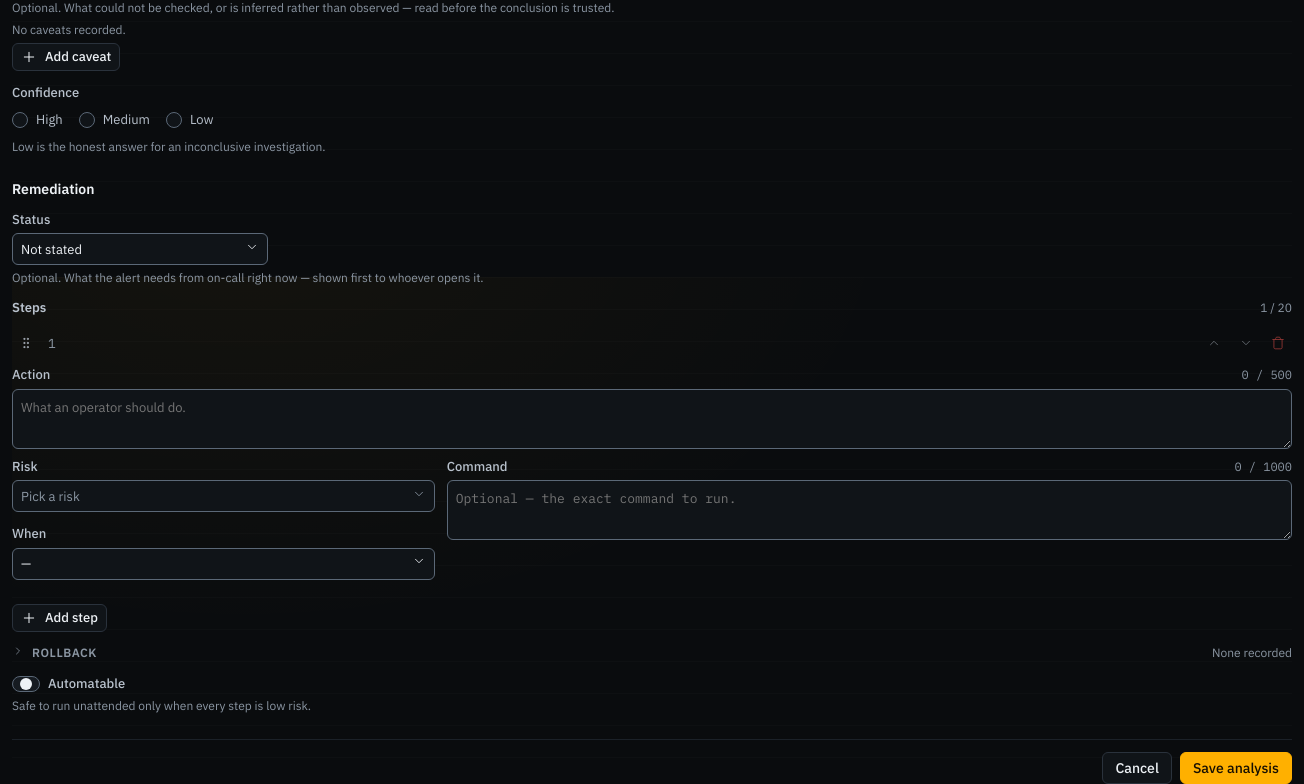
Test: AnalysisEditor › refuses an incomplete form locally, on the fields that are incomplete
(page scrolled)
Click the button "Save analysis" at coordinates (1236, 768), box [1180,752,1292,783]
(page scrolled)
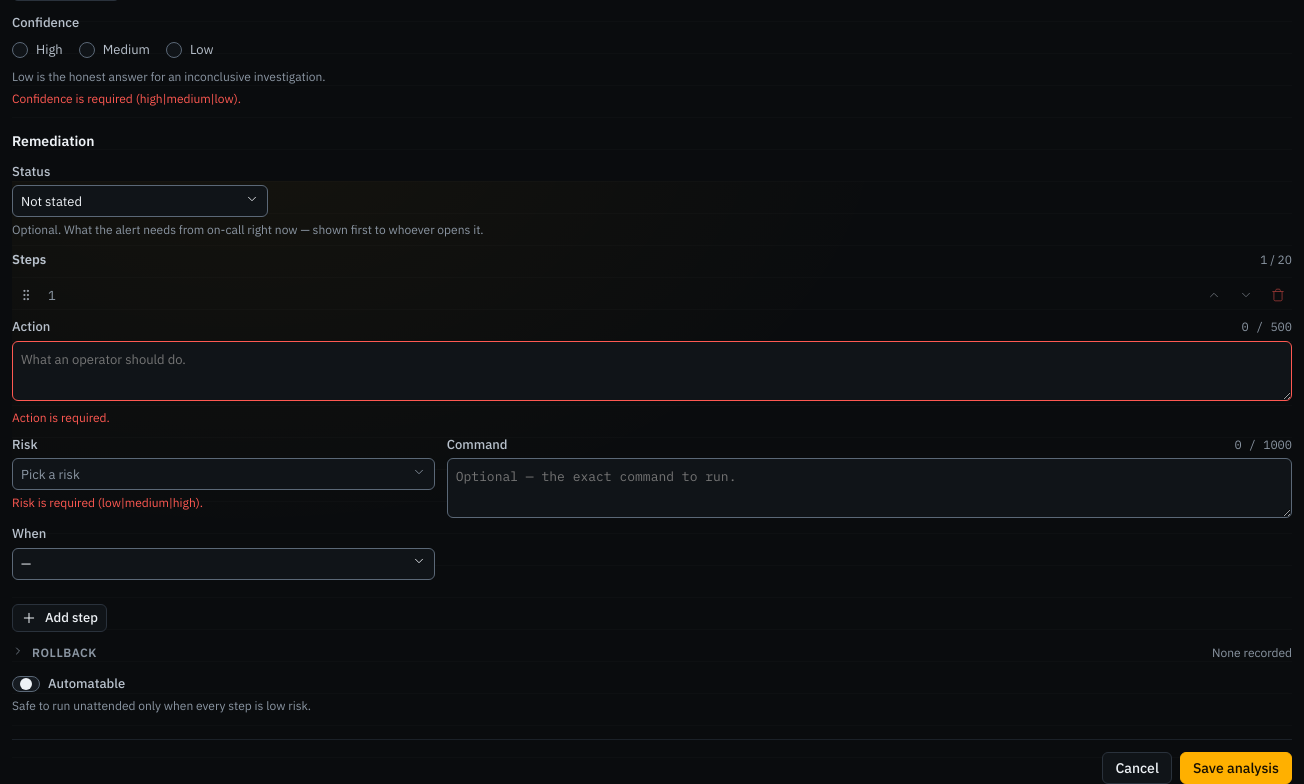
Result: the text "Confidence is required (high|medium|low)." is shown at [12,91,241,106]
Result: the text "Action is required." is shown at [12,410,110,425]
Result: the text "Risk is required (low|medium|high)." is shown at [12,495,203,510]
